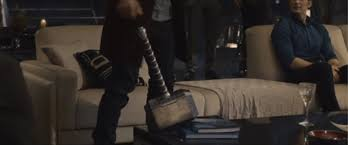THOR Hammer: (123, 24, 203, 129)
